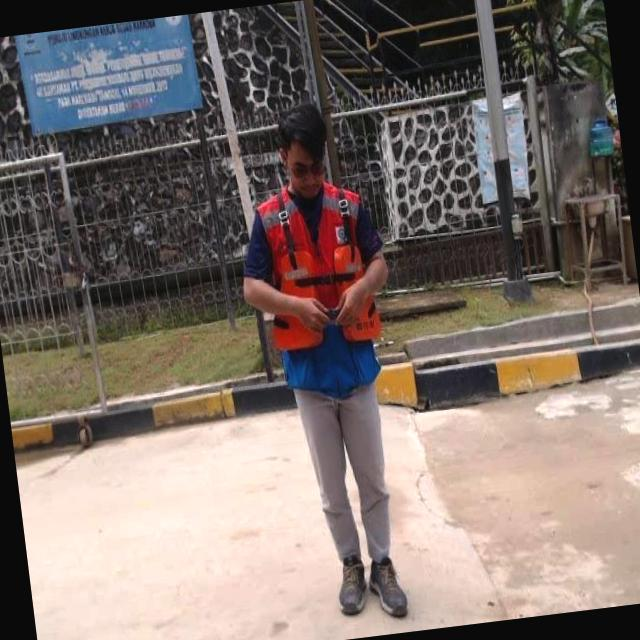vest: (256, 176, 386, 392)
